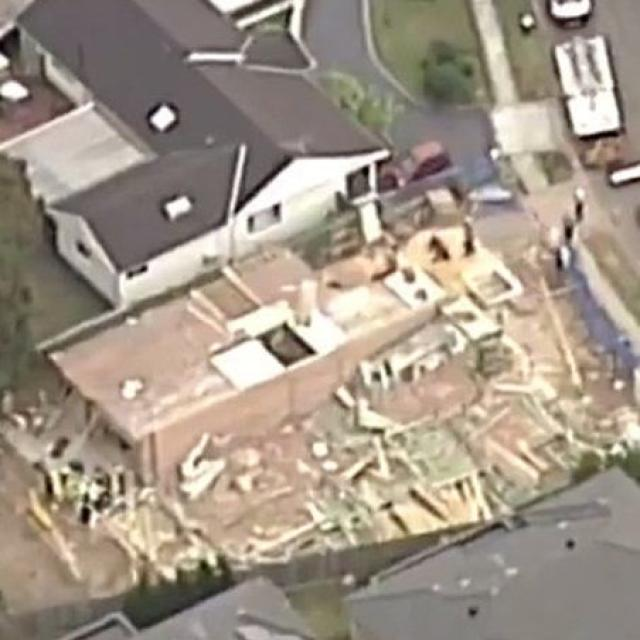collapsed_building: (32, 223, 568, 554)
